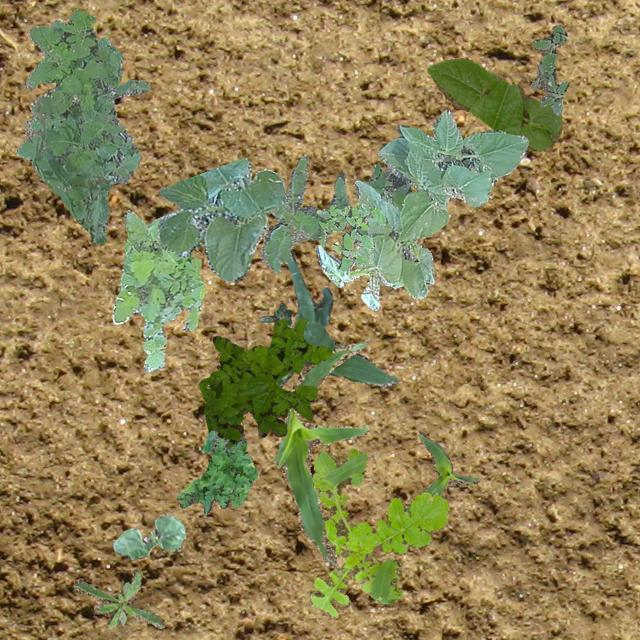crop: (314, 108, 528, 310), (274, 342, 368, 570), (276, 250, 398, 386), (157, 157, 286, 280), (426, 58, 562, 150), (404, 429, 478, 512), (112, 514, 184, 558)
weed: (15, 7, 150, 244), (308, 448, 448, 616), (198, 316, 332, 448), (112, 208, 204, 372), (260, 154, 348, 272), (175, 428, 256, 514), (73, 568, 164, 628), (316, 202, 386, 270), (356, 160, 411, 234), (530, 23, 568, 114), (258, 302, 292, 324)
